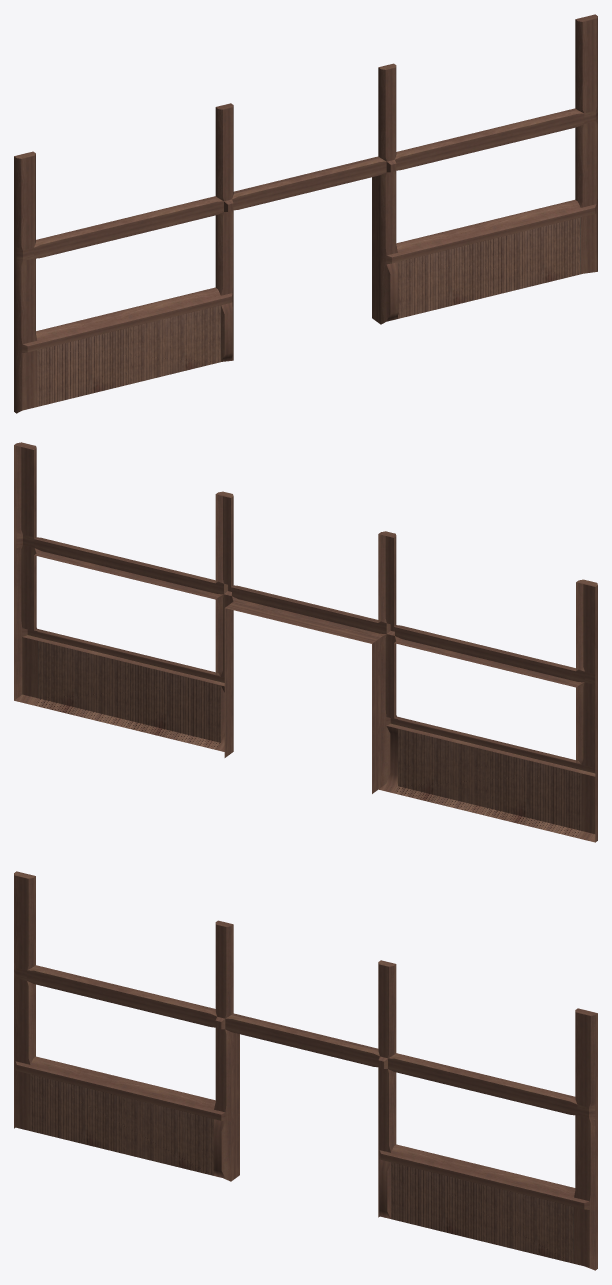
Rendered from Front_Molding.fbx.
3 views of the same model, one above another, from view 1: azimuth 30°, elevation 25°; view 2: azimuth 150°, elevation 25°; view 3: azimuth 330°, elevation 25° (orthographic).
Visible parts, largest first — view 1: Front Molding; view 2: Front Molding; view 3: Front Molding.
Boxes of the visible parts, x1,y1,x2,y2 form: Front Molding: (14,14,597,413); Front Molding: (14,442,597,842); Front Molding: (14,871,597,1270).
Size of the model in its own units: 5002 by 2101 by 205.
Materials: 1 (1 with a texture image).
